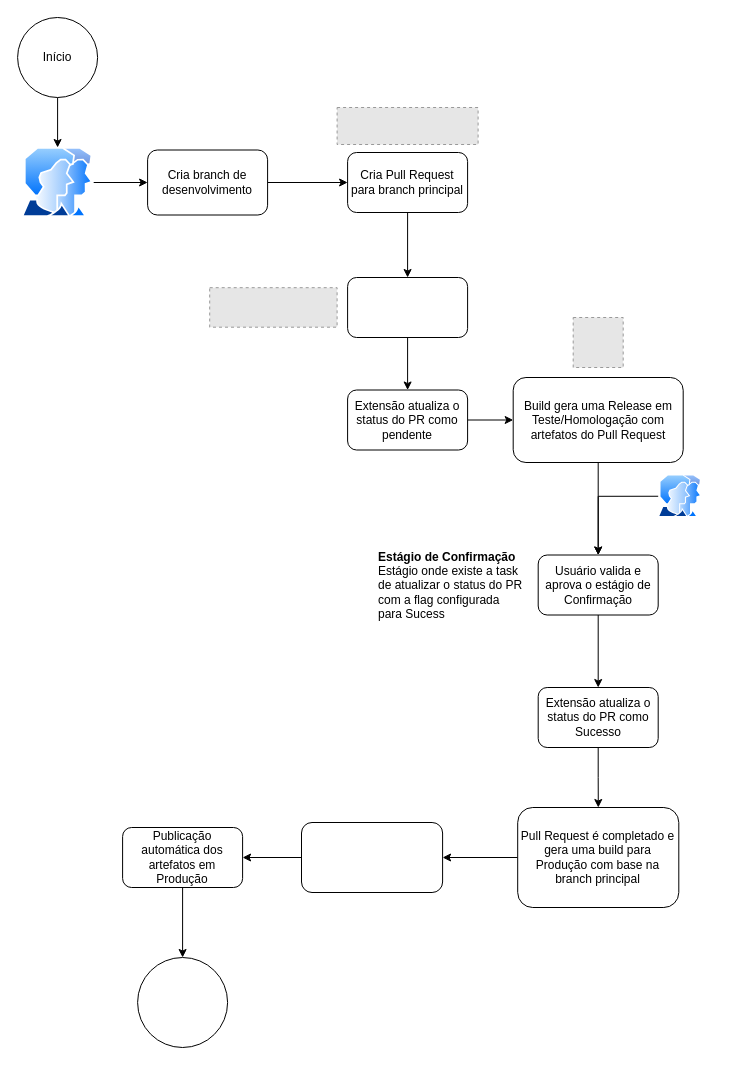
This 729x1065 diagram has some shape labels left out. Grey dashed boxes stand in for pictures. Here are the shapes that lost their labels. From the top down, the centre of each, then its label:
At (57,182): "Desenvolvedor".
At (407,307): "É disparado um processo de validação de build".
At (680,495): "Stakeholder".
At (371,857): "Gerada build automática da branch principal".
At (182,1002): "Fim".
